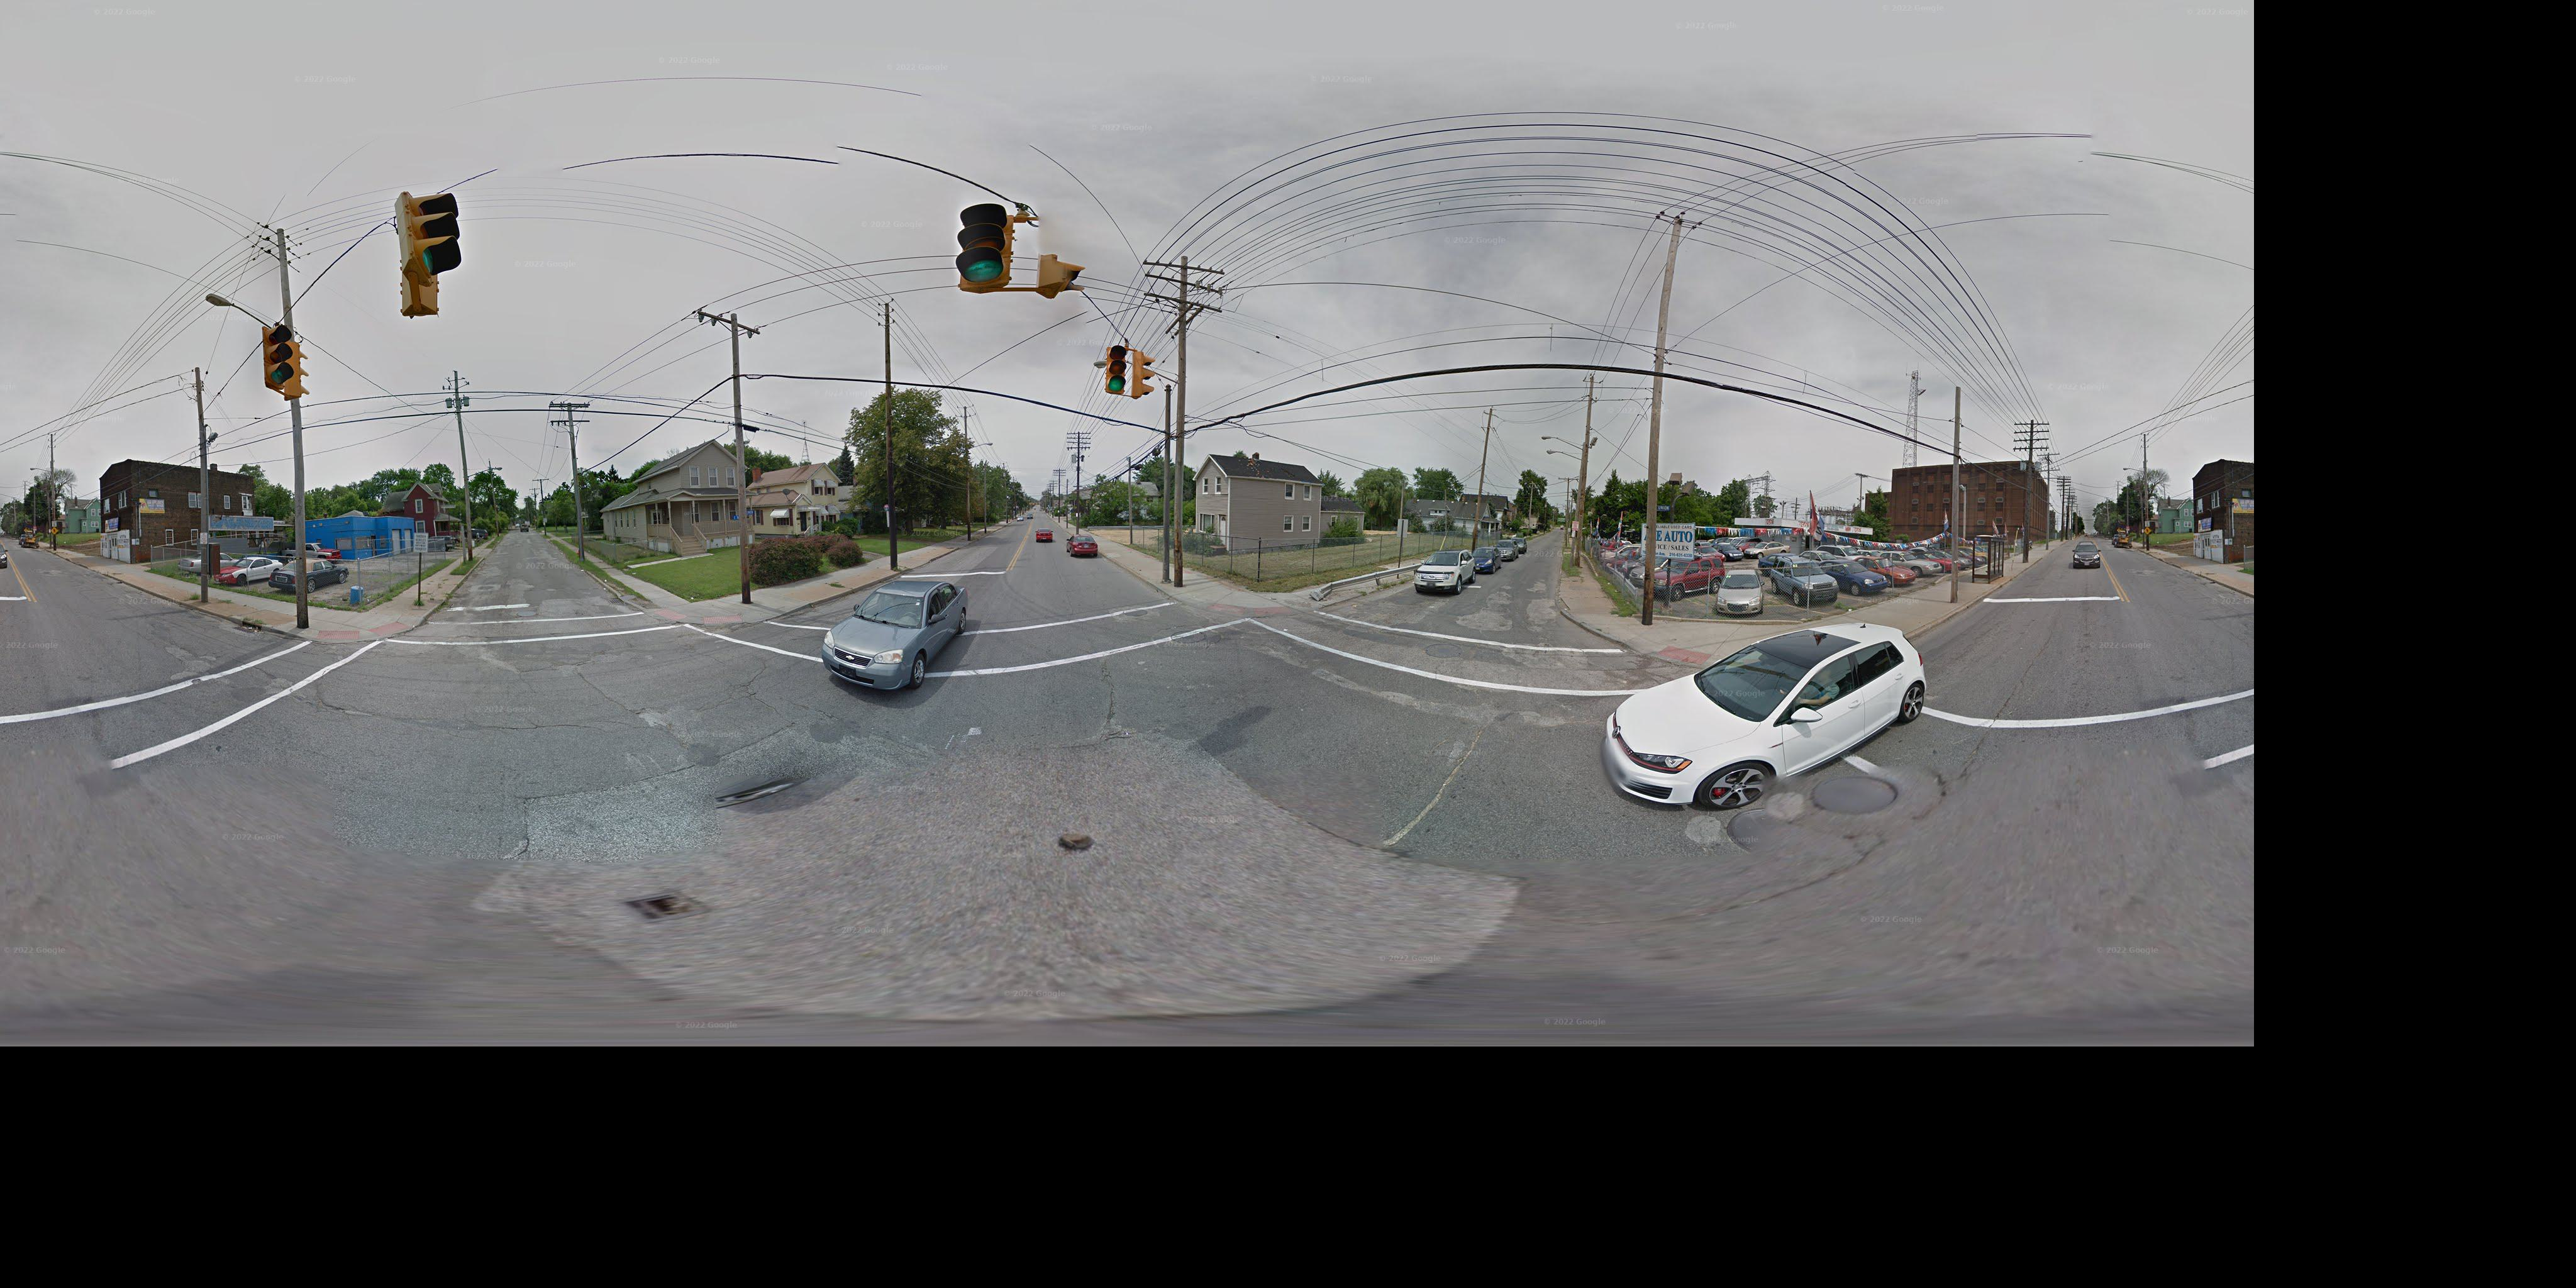Irregular Ramp: (1189, 588, 1304, 634), (636, 600, 761, 641), (301, 618, 421, 655), (1640, 631, 1713, 675)
